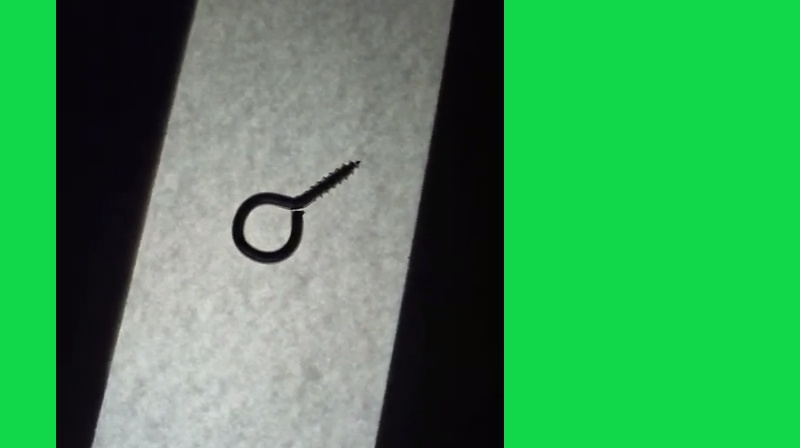O001: (227, 155, 364, 265)
